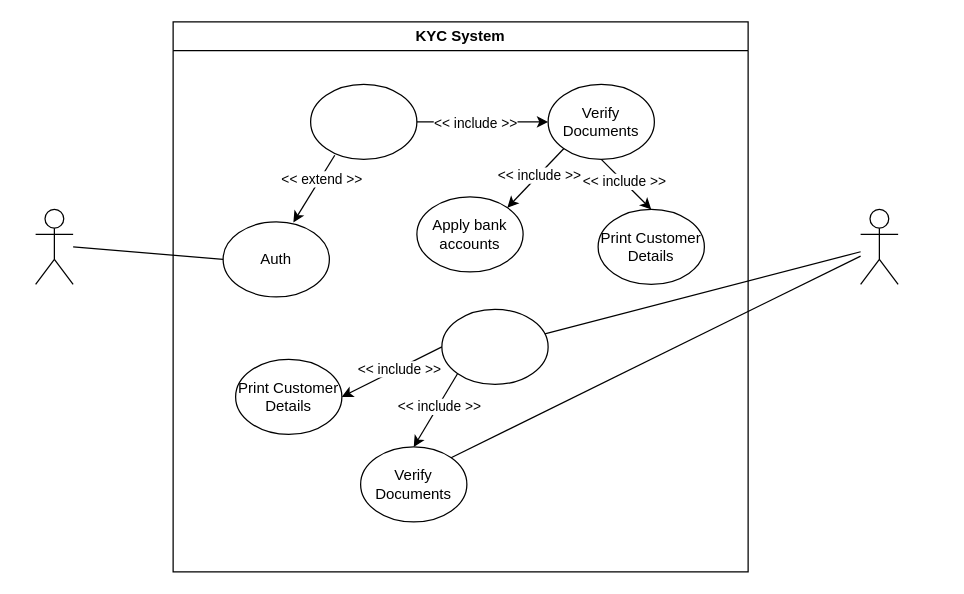
Some shapes in this 964 by 594 pixel diagram are drawn without their labels. Each missing label, with the box of its shape:
Approve/Reject Customer: (441, 308, 548, 384)
Compliance Officer: (859, 208, 898, 284)
Customer: (34, 208, 73, 284)
Upload/Fill D ocuments: (309, 83, 417, 159)
